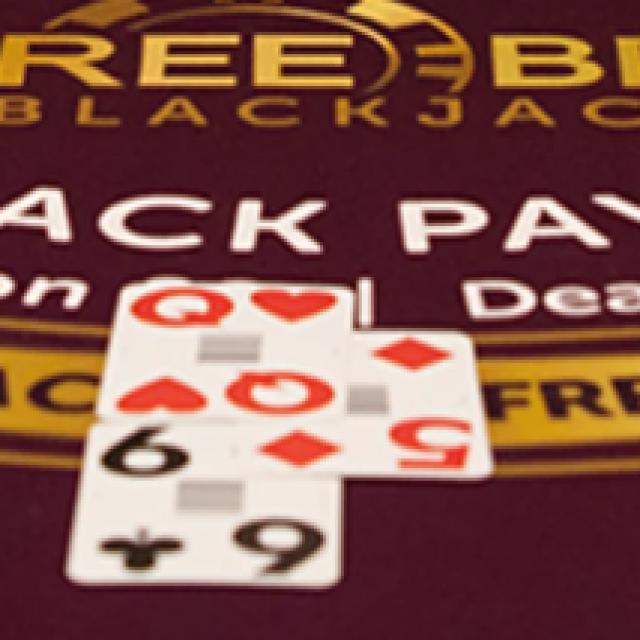Card-5: (242, 329, 492, 475)
Card-6: (66, 420, 343, 586)
Card-Q: (99, 282, 352, 420)
